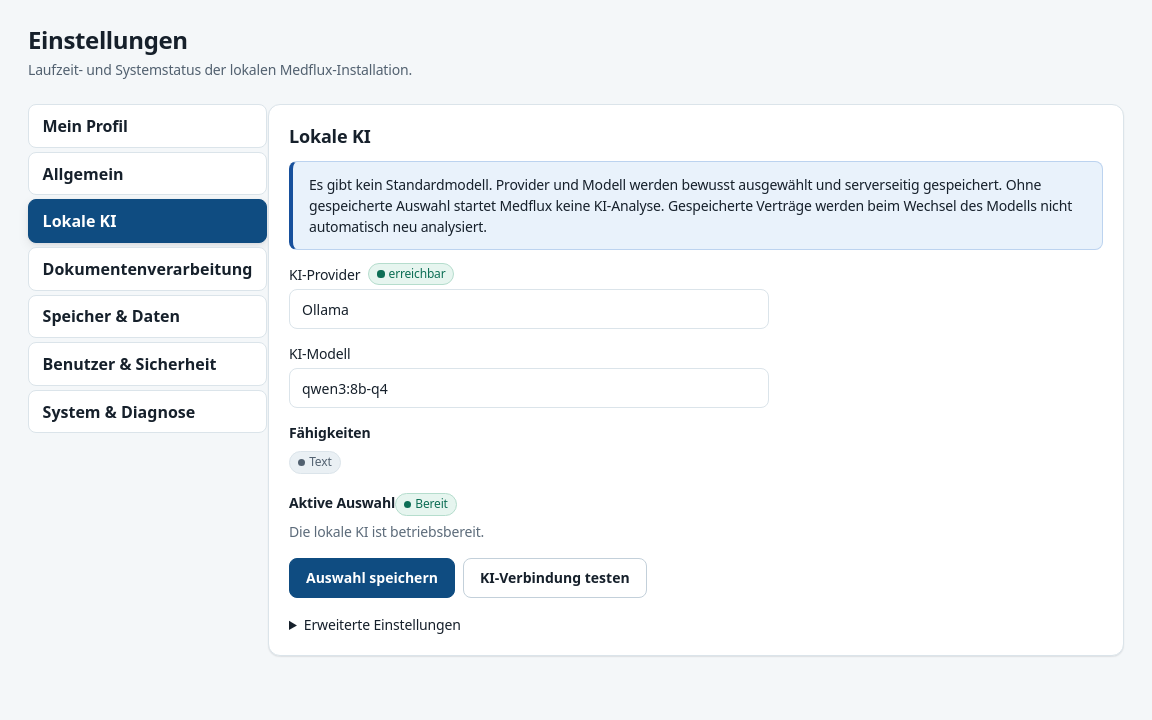
Test: Einstellungen (STEP 6B, Anbieter-unabhängig) › zeigt Backend-Fehler beim Speichern ehrlich an
Click the button "Auswahl speichern" at (372, 578), box [289,558,455,598]
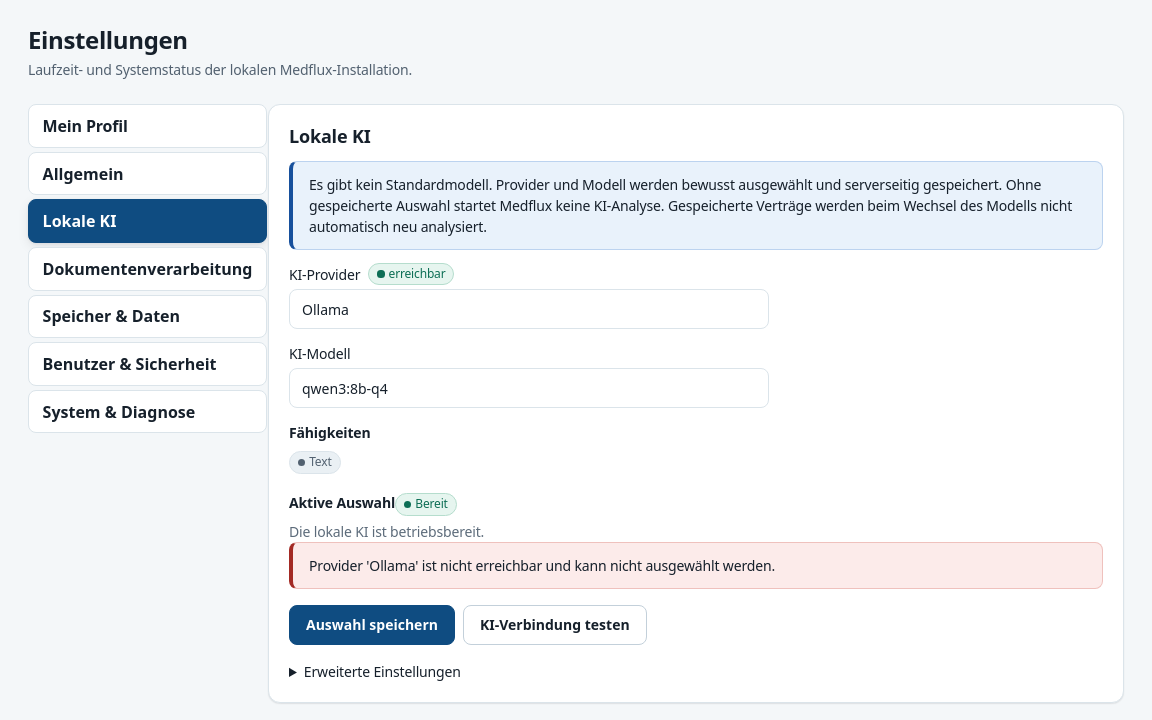
Check: the text "Provider 'Ollama' ist nicht erreichbar und kann nicht ausgewählt werden." is shown, box [309,555,775,576]
